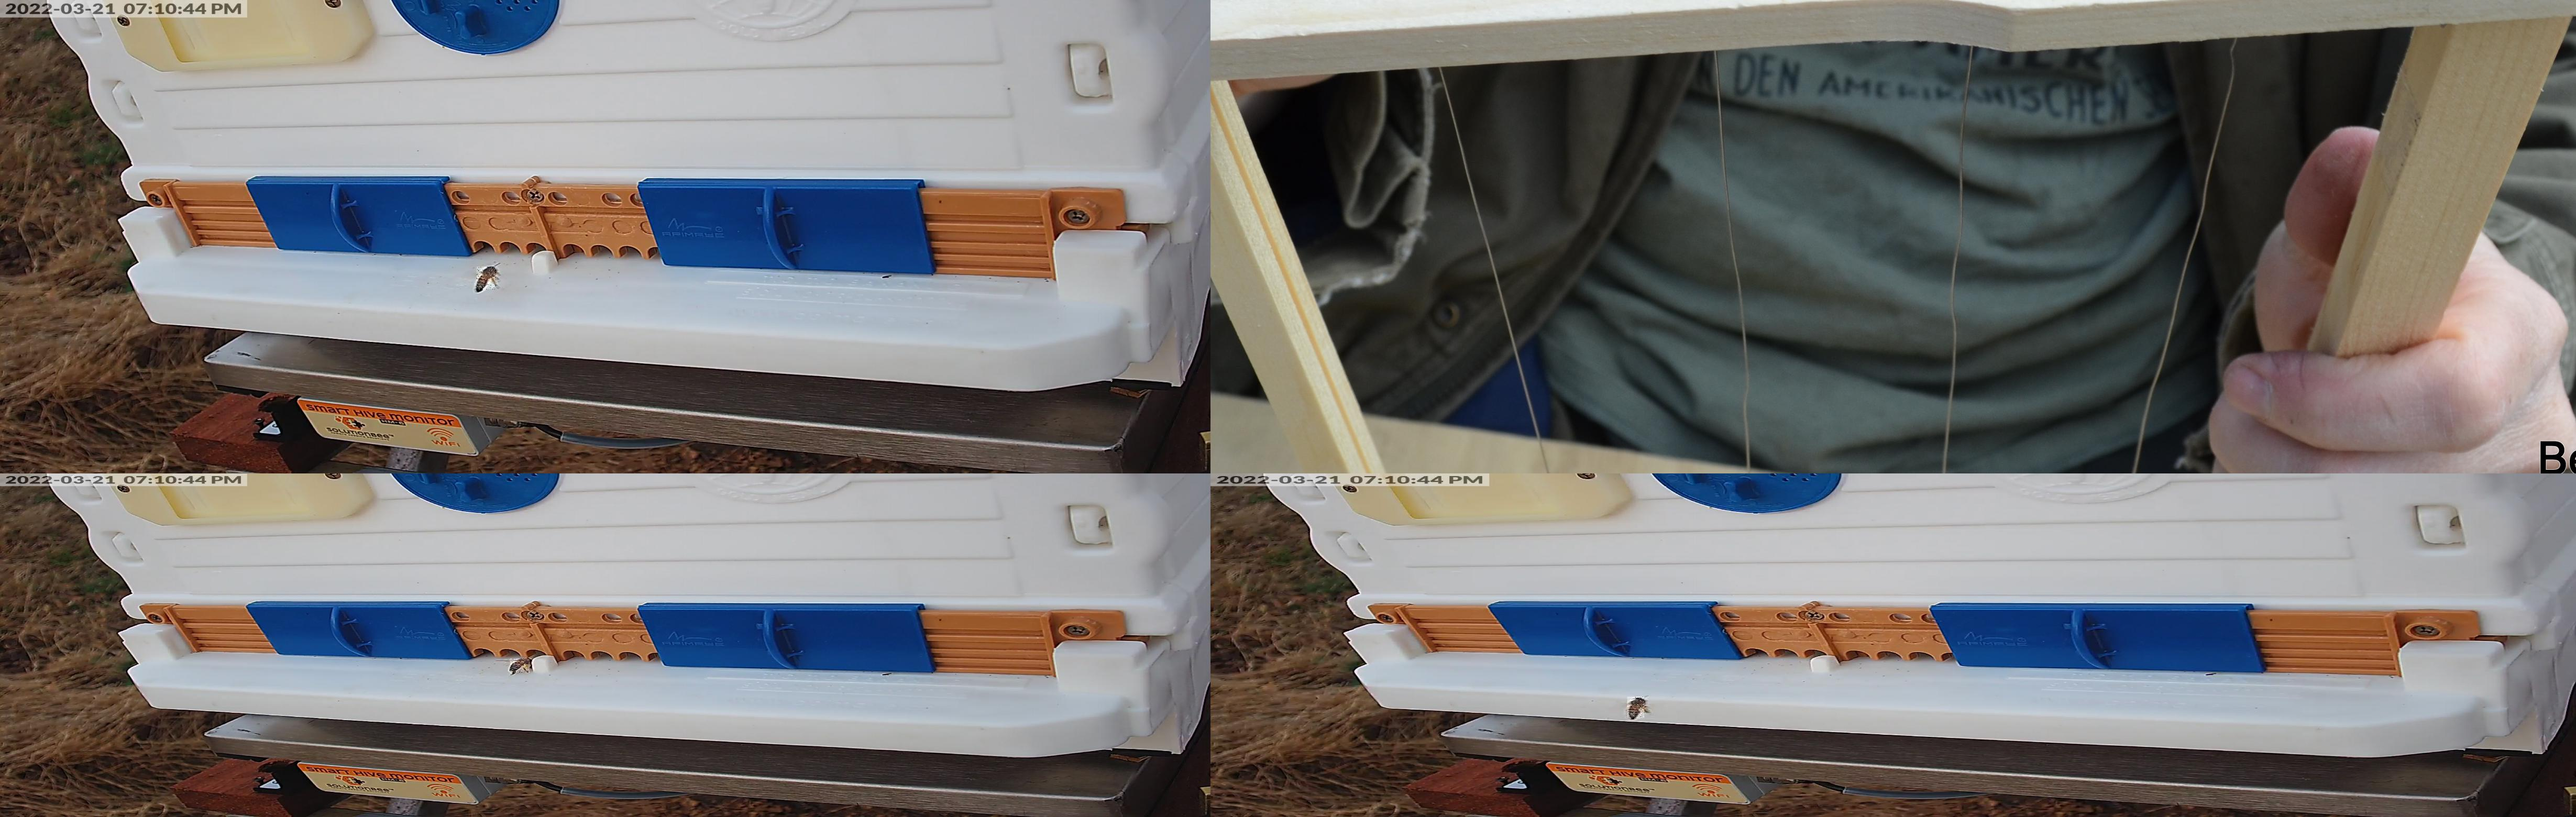pollenbee: (477, 267, 496, 291), (1627, 697, 1645, 719), (510, 659, 531, 673)
